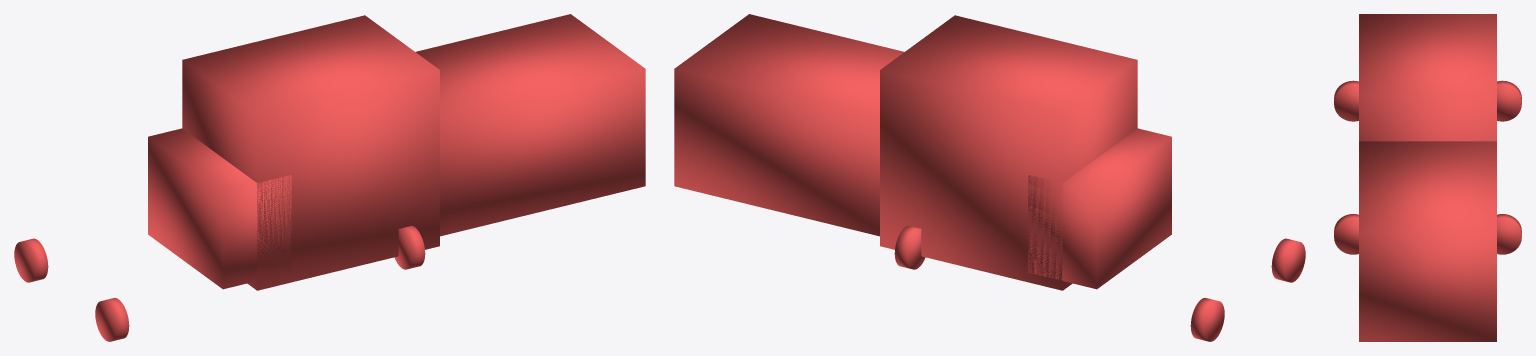
File: Peterbilt_567_Dump_Truck_Red.glb
3 renders of one model, left to right at view 1: azimuth 30°, elevation 25°; view 2: azimuth 150°, elevation 25°; view 3: azimuth 270°, elevation 25°, orthographic. The views are drawn at different scales.
Visible parts, largest first — view 1: Peterbilt_567_Dump_Truck; view 2: Peterbilt_567_Dump_Truck; view 3: Peterbilt_567_Dump_Truck.
Part boxes in pixels (x1,y1,x2,y2): Peterbilt_567_Dump_Truck: (14,14,645,341); Peterbilt_567_Dump_Truck: (674,14,1305,341); Peterbilt_567_Dump_Truck: (1334,14,1521,341).
Size of the model in its own units: 10.45 by 3.42 by 3.4.
